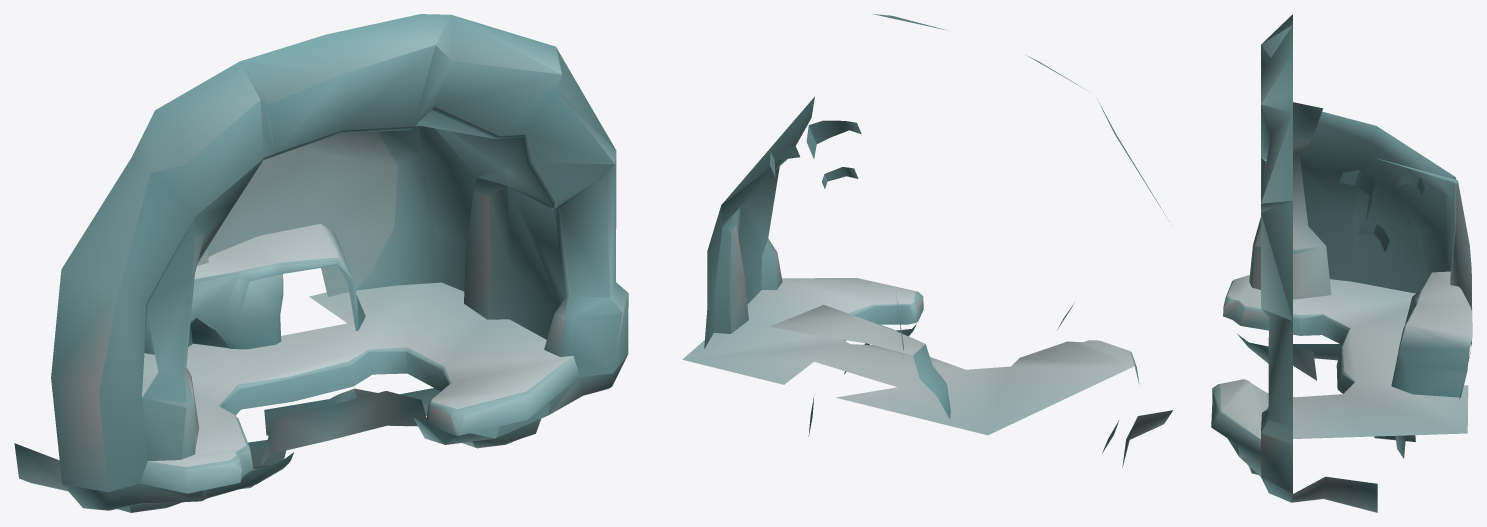
File: EntryCaveRock_3.glb
3 renders of one model, left to right at view 1: azimuth 30°, elevation 25°; view 2: azimuth 150°, elevation 25°; view 3: azimuth 270°, elevation 25°, orthographic. The views are drawn at different scales.
Visible parts, largest first — view 1: EntryCaveRock; view 2: EntryCaveRock; view 3: EntryCaveRock.
Part boxes in pixels (<box>): EntryCaveRock: <box>14,14,628,512</box>; EntryCaveRock: <box>682,14,1172,467</box>; EntryCaveRock: <box>1211,14,1472,512</box>.
Bounding box in the file's own units: 27.8 × 22.56 × 13.41.
